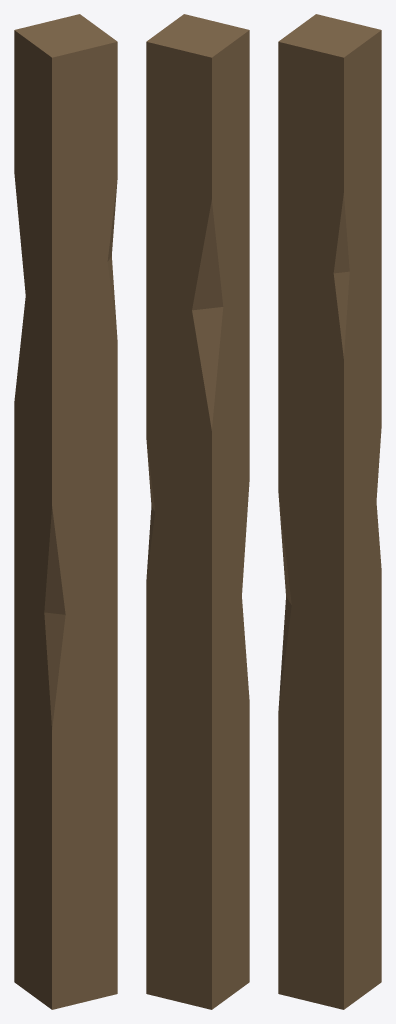
Rendered from SM_Env_Pillar_06.fbx.
3 renders of one model, left to right at view 1: azimuth 30°, elevation 25°; view 2: azimuth 150°, elevation 25°; view 3: azimuth 330°, elevation 25°, orthographic.
Visible parts, largest first — view 1: SM_Env_Pillar_06; view 2: SM_Env_Pillar_06; view 3: SM_Env_Pillar_06.
Boxes of the visible parts, x1=… form: SM_Env_Pillar_06: x1=14, y1=14, x2=117, y2=1009; SM_Env_Pillar_06: x1=146, y1=14, x2=249, y2=1009; SM_Env_Pillar_06: x1=278, y1=14, x2=381, y2=1009.
Bounding box in the file's own units: 15.05 × 209 × 15.05.
Materials: 1 (1 with a texture image).
